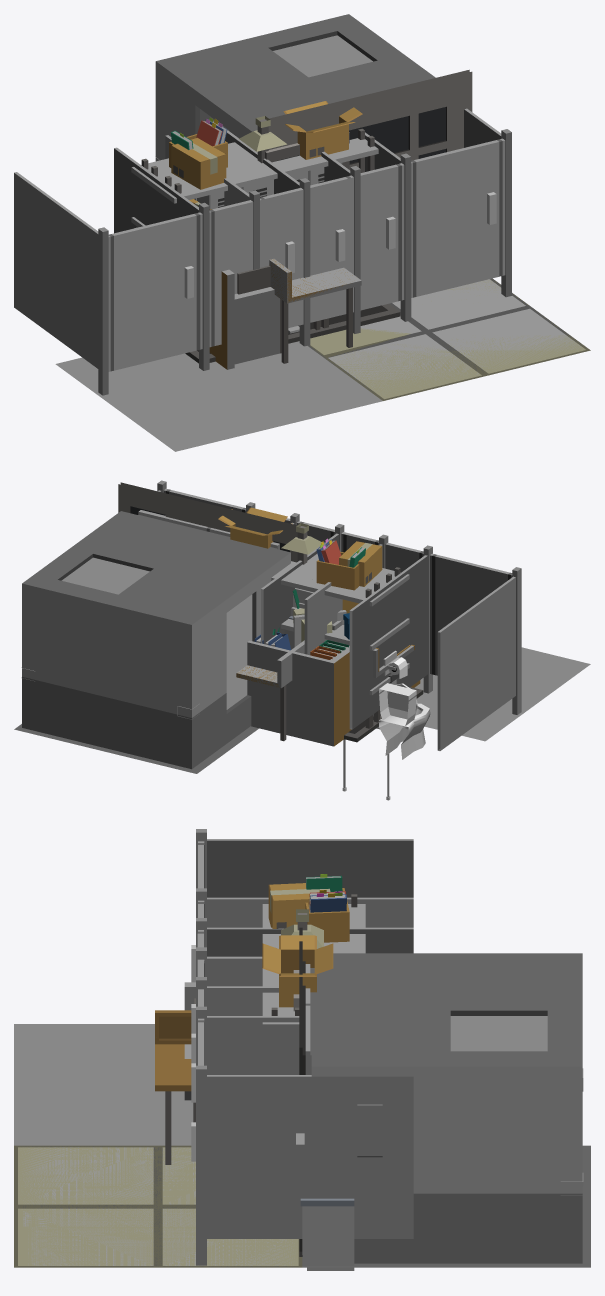
The model's file is OfficeLibrary.glb.
The picture shows the model from 3 angles, top to bottom: view 1: azimuth 30°, elevation 25°; view 2: azimuth 150°, elevation 25°; view 3: azimuth 270°, elevation 25°; orthographic projection. The views are drawn at different scales.
Visible parts, largest first — view 1: ToiletStall_02, Wall_Elevator2, Ceiling, Floor_02, Toilet_Door_04, Toilet_Door_01, Floor_01, Toilet_Door, Shelf_03, Toilet_Door_03, Wall_Glass, Toilet_Door_02 (+14 smaller); view 2: Wall_Elevator2, ToiletStall_02, DeskPreset_03, Ceiling, Shelf_01, Shelf_03, Wall_Glass_Door, Toilet_Door_01, ToiletStall_01, Desk_01, Floor_Carpet_Grey51, Desk_04 (+7 smaller); view 3: Wall_Elevator2, ToiletStall_02, Floor_01, Ceiling, Floor_02, Shelf_03, ToiletStall_01, Sinks, Desk_02, Shelf_01, Floor_Carpet_Grey51, CeilingLight.
Boxes of the visible parts, x1,y1,x2,y2 form: ToiletStall_02: [14, 108, 511, 395]; Wall_Elevator2: [155, 14, 459, 161]; Ceiling: [55, 341, 382, 451]; Floor_02: [307, 278, 586, 392]; Toilet_Door_04: [414, 140, 499, 296]; Toilet_Door_01: [112, 214, 196, 370]; Floor_01: [310, 279, 590, 400]; Toilet_Door: [263, 177, 347, 327]; Shelf_03: [141, 101, 377, 226]; Toilet_Door_03: [314, 164, 398, 312]; Wall_Glass: [265, 69, 472, 170]; Toilet_Door_02: [212, 191, 294, 345]; Wall_Elevator2: [21, 511, 290, 769]; ToiletStall_02: [157, 480, 521, 759]; DeskPreset_03: [247, 640, 348, 746]; Ceiling: [414, 647, 590, 741]; Shelf_01: [271, 538, 400, 728]; Shelf_03: [218, 507, 409, 722]; Wall_Glass_Door: [118, 484, 297, 562]; Toilet_Door_01: [435, 555, 509, 675]; ToiletStall_01: [290, 513, 388, 655]; Desk_01: [236, 640, 304, 741]; Floor_Carpet_Grey51: [14, 724, 258, 773]; Desk_04: [334, 653, 420, 746]; Wall_Elevator2: [299, 953, 583, 1263]; ToiletStall_02: [196, 829, 413, 1265]; Floor_01: [14, 1145, 302, 1267]; Ceiling: [14, 1024, 193, 1145]; Floor_02: [22, 1146, 294, 1267]; Shelf_03: [262, 883, 342, 1028]; ToiletStall_01: [196, 918, 413, 1015]; Sinks: [300, 1198, 354, 1270]; Desk_02: [155, 1010, 191, 1164]; Shelf_01: [286, 874, 365, 1030]; Floor_Carpet_Grey51: [302, 1145, 590, 1267]; CeilingLight: [281, 909, 323, 948].
Size of the model in its own units: 10.69 by 6.7 by 10.
2 materials, 1 textured.
